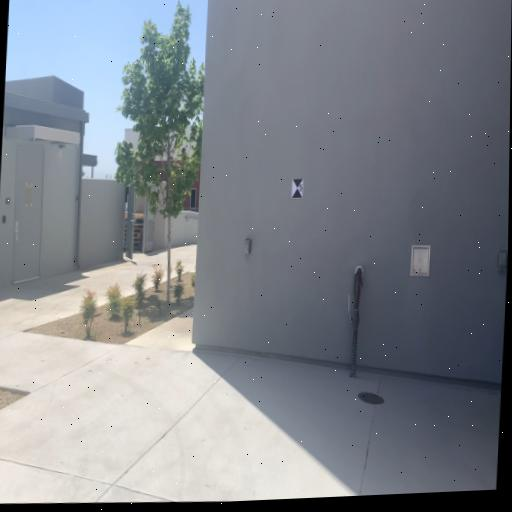target5: (291, 177, 303, 199)
